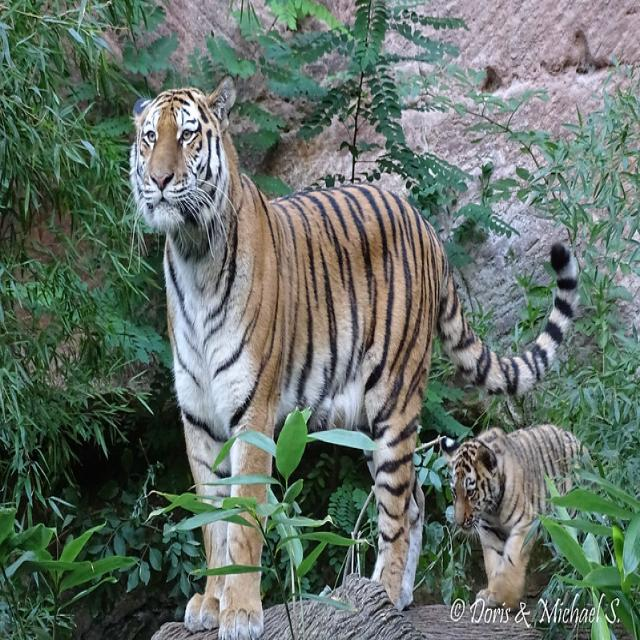Tiger: (128, 78, 546, 622), (446, 422, 596, 602)
